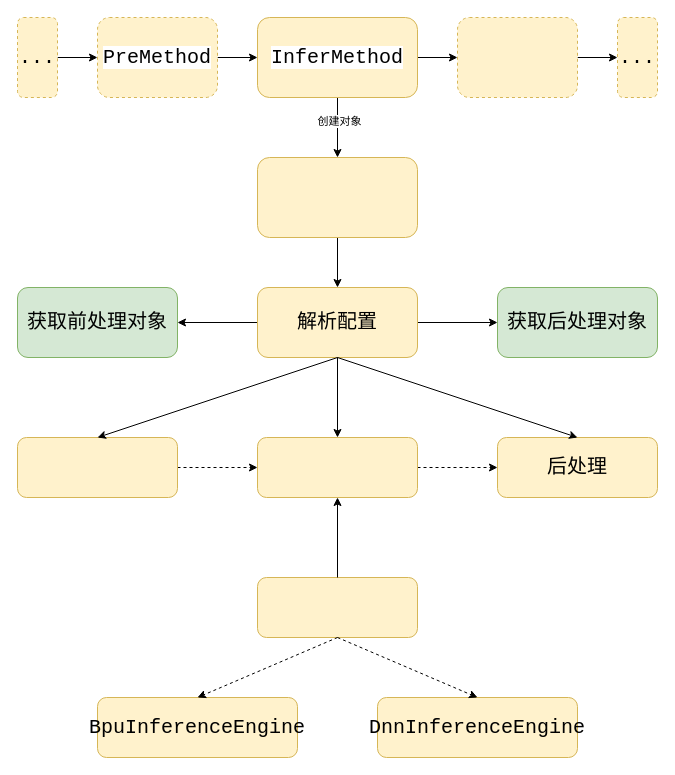
The diagram is 675 pixels wide and 775 high, and some of its shapes have lost their labels. Here are the shapes that lost their labels. From the top down, the centre of each, then its label:
(517,57): PostMethod
(337,197): Inferencer
(97,467): 前处理
(337,467): 预测
(337,607): InferenceEngine
